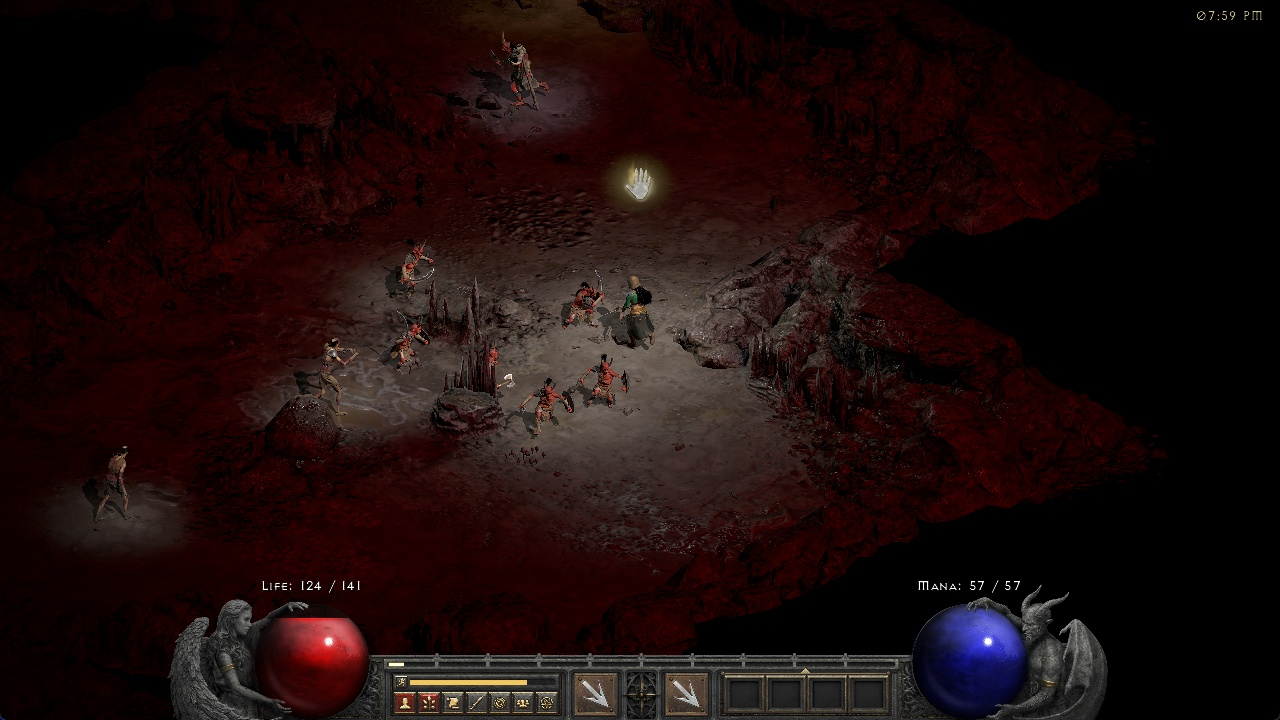fallen: (519, 378, 573, 438), (582, 355, 630, 411), (388, 317, 432, 373), (393, 241, 434, 300), (562, 279, 602, 329), (491, 343, 506, 396)
